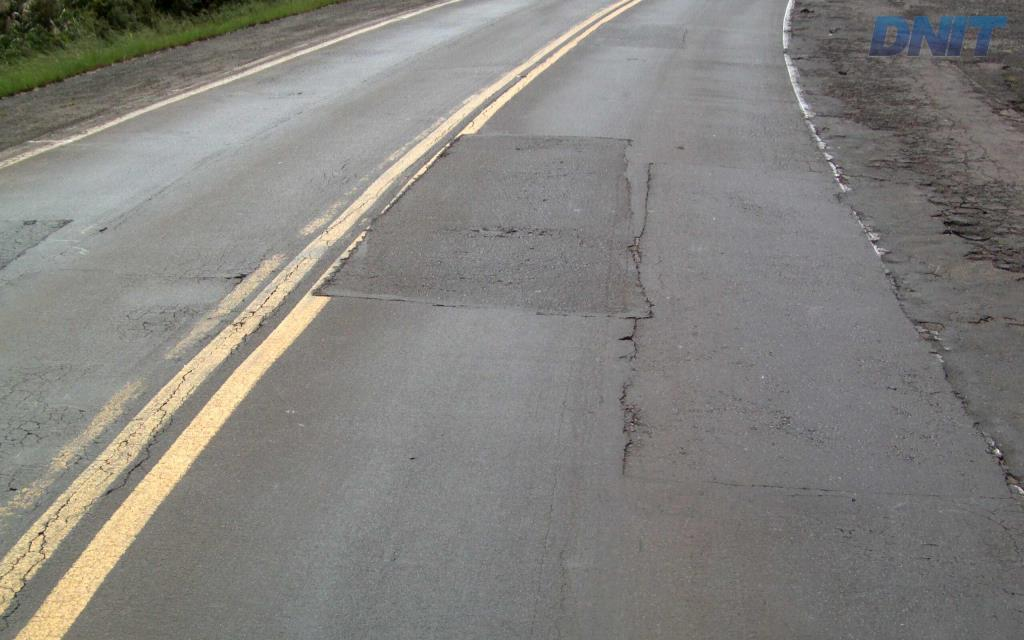crack: (617, 162, 656, 359), (829, 572, 890, 615), (618, 382, 642, 436)
pothole: (625, 232, 642, 268)
